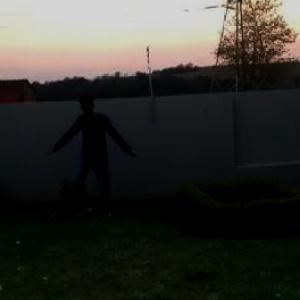land: (48, 101, 136, 225)
